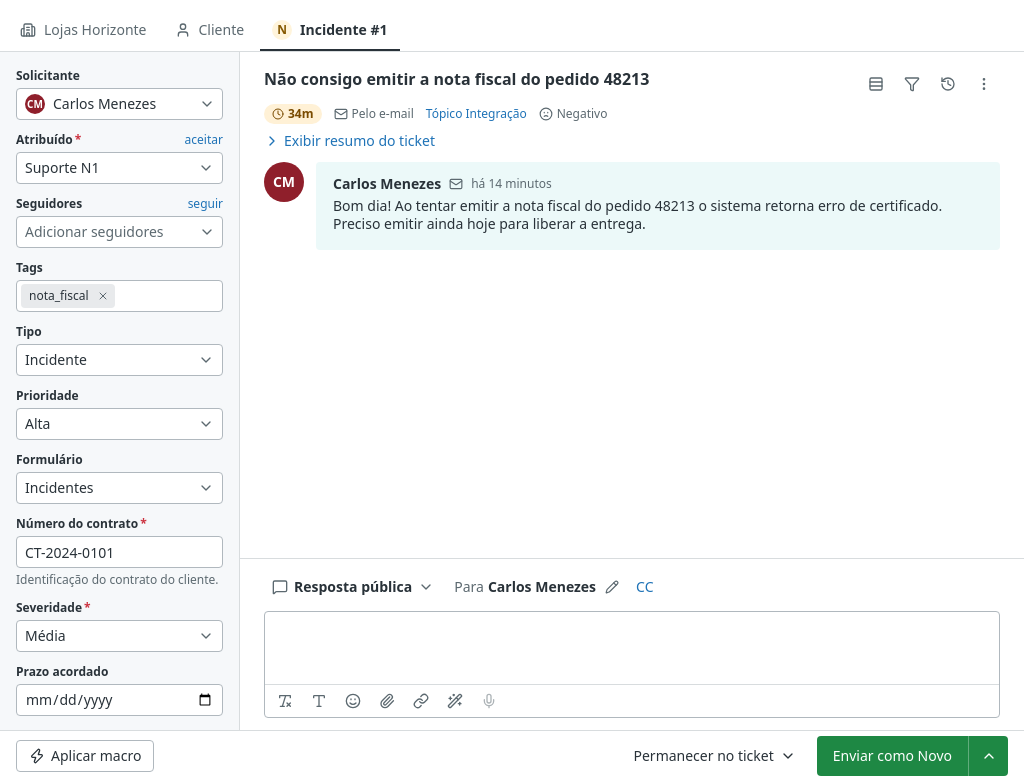
it: resumo de IA na conversa › resumo inteiro: sem aviso de truncado
The image size is (1024, 780).
Click the button "Exibir resumo do ticket" at (349, 141), box [264,132,435,150]
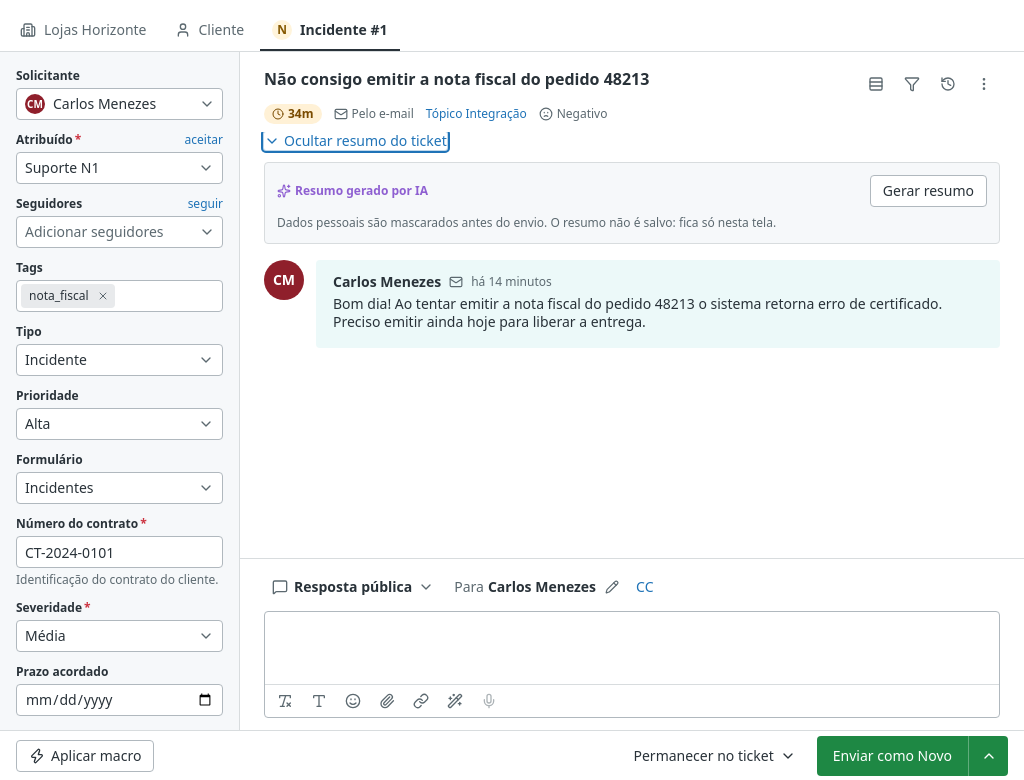
Click the button "Gerar resumo" at (928, 191), box [870,175,987,207]
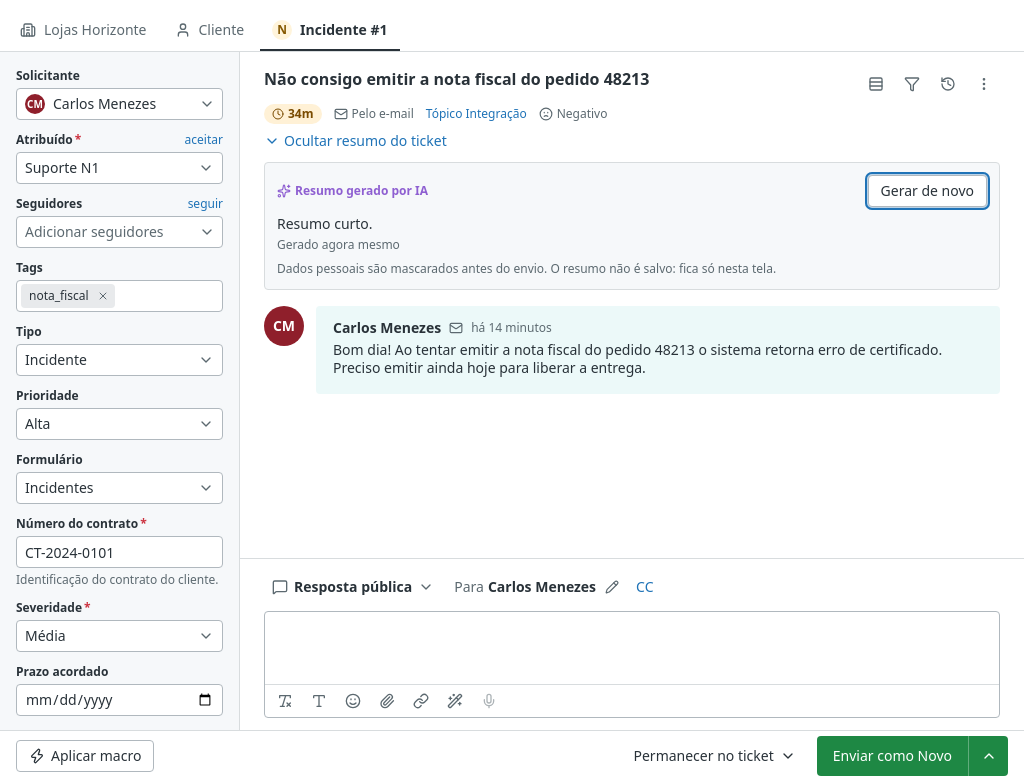
Expected: the text "Resumo curto." is shown, [277,214,373,233]
